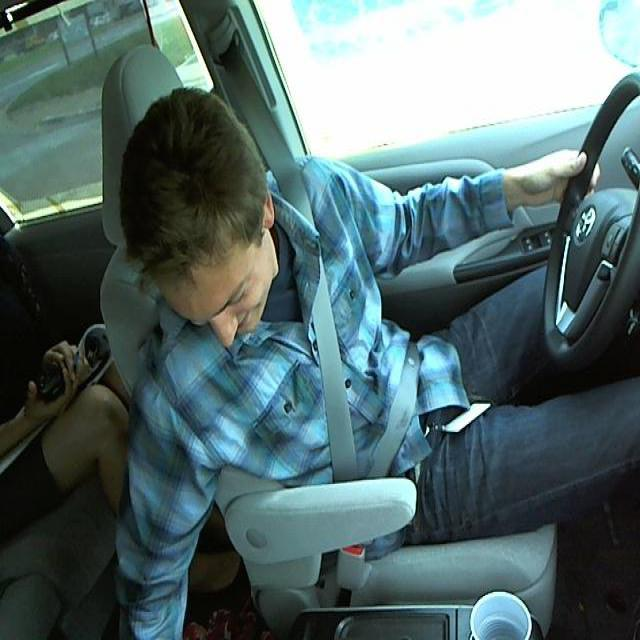seatbelt: (276, 188, 421, 480)
